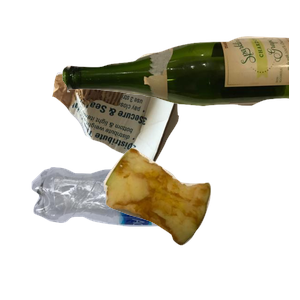cardboard: (50, 62, 228, 226)
glass: (60, 34, 300, 133)
plastic: (29, 165, 227, 300)
trash: (101, 145, 300, 300)
